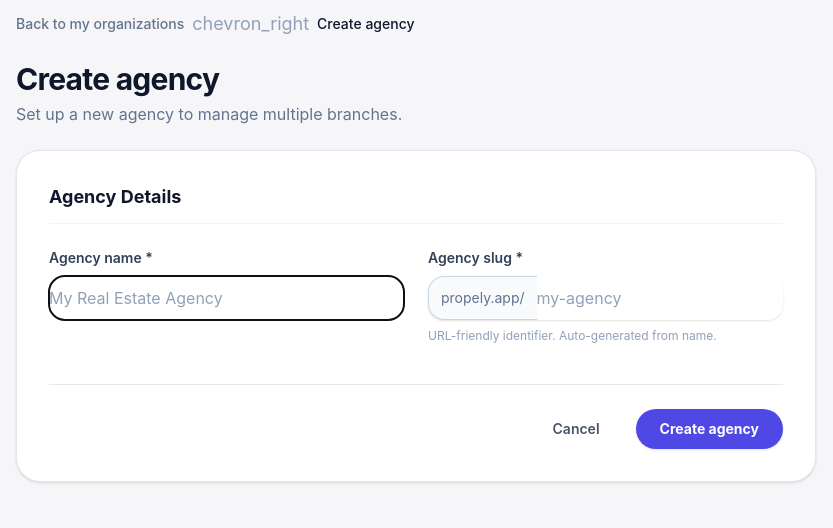
Test: AgencyCreateForm › shows validation error for invalid slug
Type "Test" into the field labelled "Agency name *" at (226, 298), box top-left (49, 276), bottom-right (404, 320)
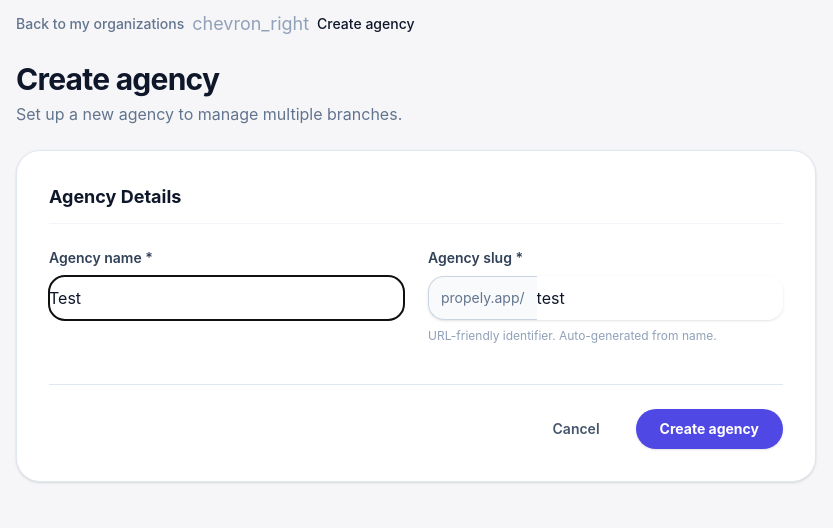
Replace the text in the field labelled "Agency slug *" with "AB" at (660, 298), box top-left (536, 276), bottom-right (783, 320)
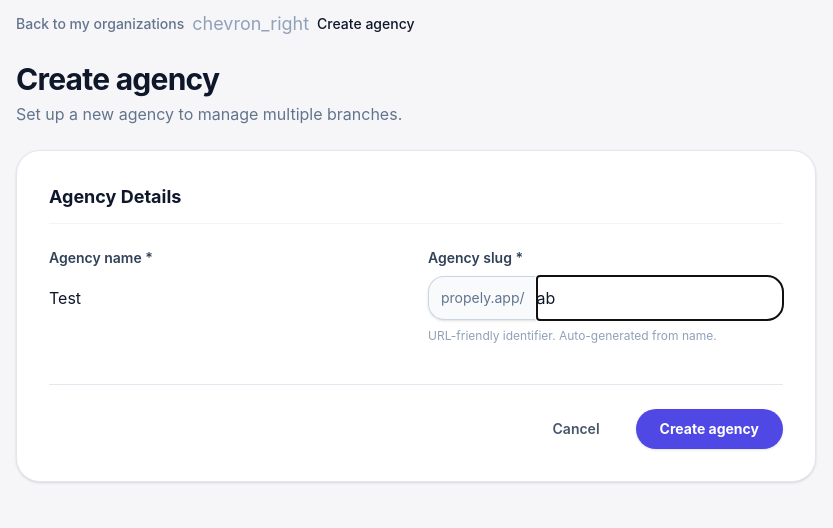
Click the button "Create agency" at (709, 429), box top-left (636, 409), bottom-right (783, 449)
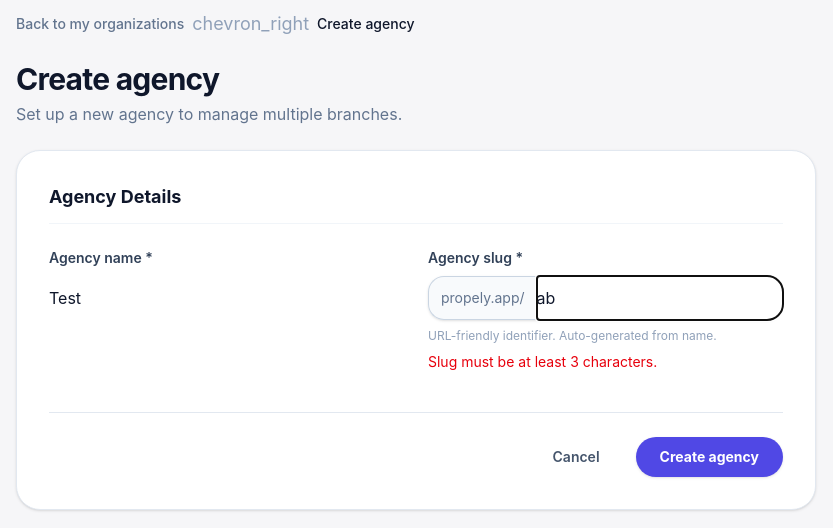
Check: the text "Slug must be at least 3 characters." is shown, box top-left (428, 353), bottom-right (657, 370)
